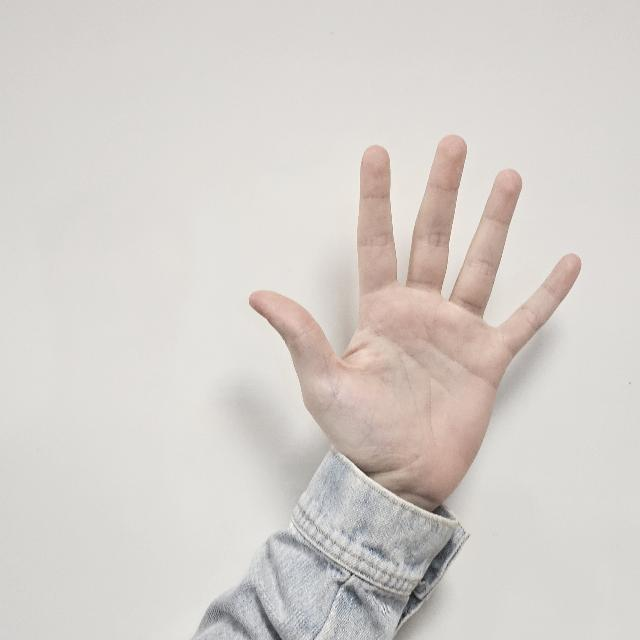X: (250, 136, 582, 518)
